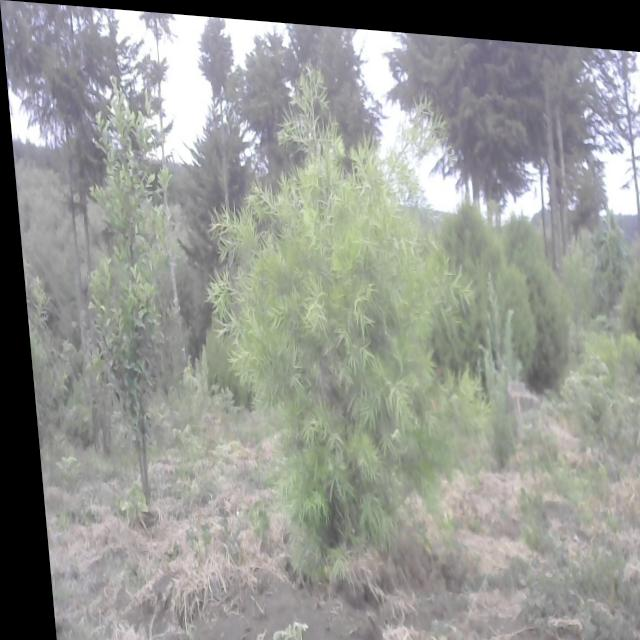Lemon Myrtle: (67, 88, 194, 510)
Podocarpus falcatus: (191, 57, 492, 573)
cedrus: (396, 25, 537, 201), (422, 180, 536, 380), (12, 1, 113, 202), (495, 188, 572, 399), (174, 101, 258, 291), (526, 34, 597, 205), (287, 19, 381, 141), (234, 15, 299, 172), (123, 8, 187, 155), (584, 37, 640, 195), (191, 12, 237, 101)
